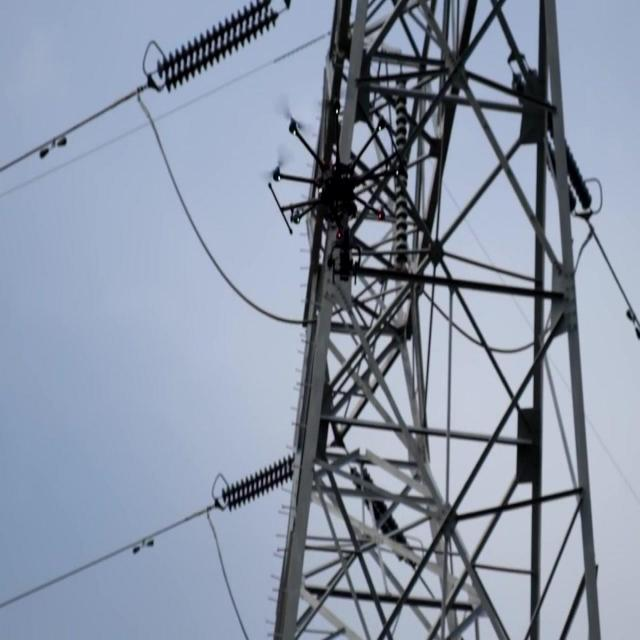UAV: (265, 102, 401, 286)
